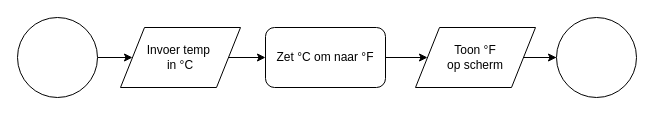
Image size: 654x115. Some labels were removed from this diagram. Here are the shapes that lost their labels. From the top down, the centre of each, then its label:
(x=57, y=57): Begin
(x=596, y=57): Einde
